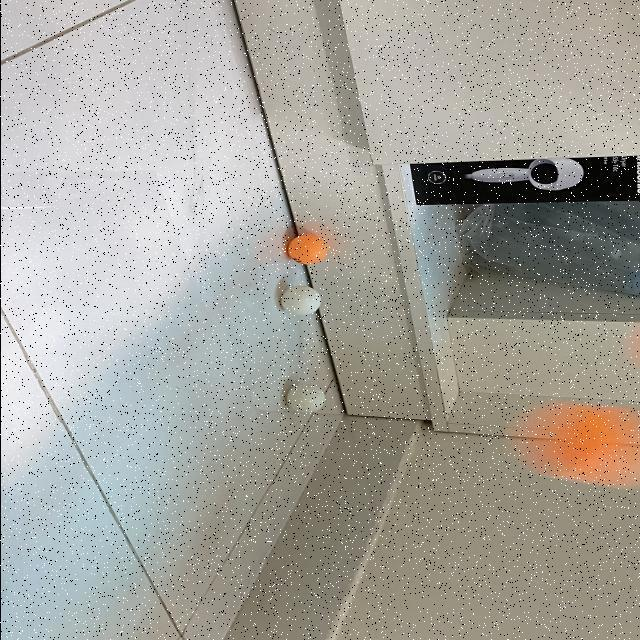ping-pong-ball: (514, 410, 639, 478), (280, 286, 322, 316), (288, 236, 328, 264), (288, 386, 324, 414)
